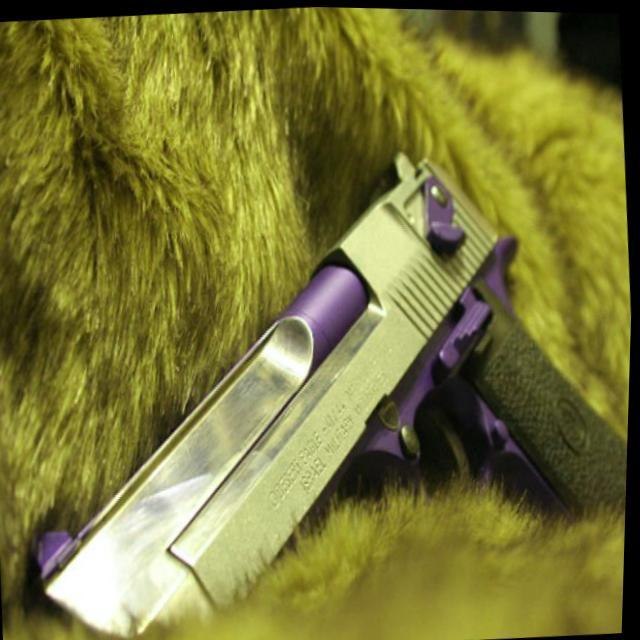weapon: (4, 122, 637, 640)
